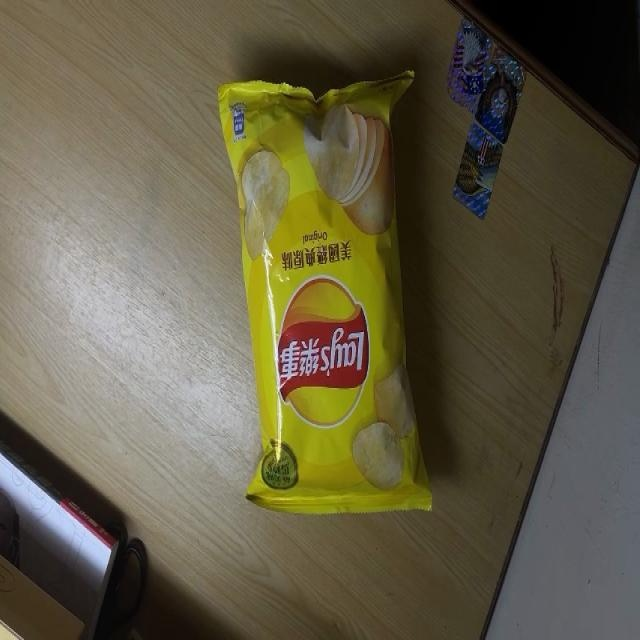Lay-s-original: (214, 69, 433, 520)
